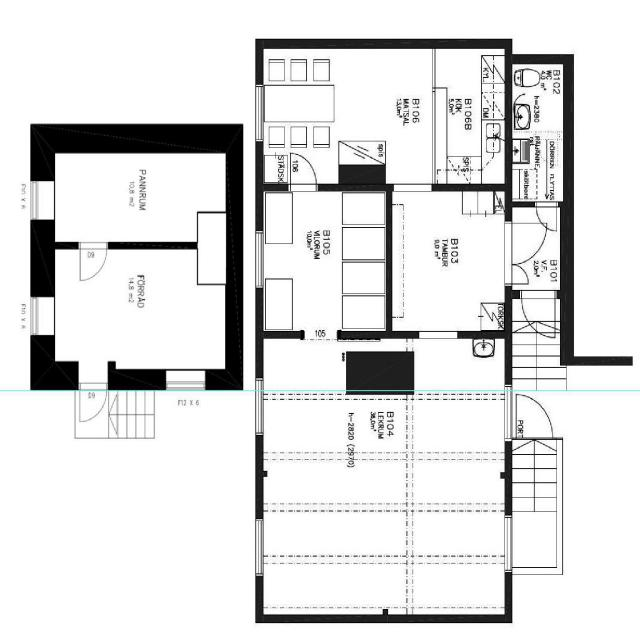door: (78, 361, 106, 424), (504, 223, 547, 264), (521, 290, 554, 339), (79, 241, 106, 281), (290, 152, 316, 191), (536, 202, 557, 232), (504, 265, 528, 284)
